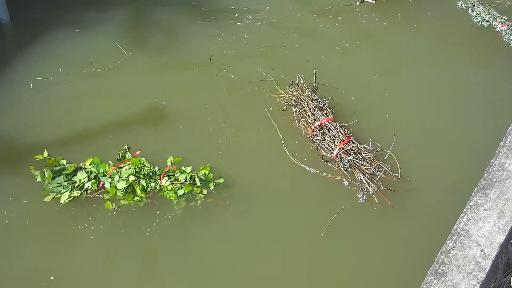twig: (255, 62, 416, 185), (32, 155, 228, 214), (461, 0, 502, 63)
